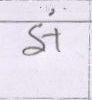anusvara: (49, 9, 54, 16)
